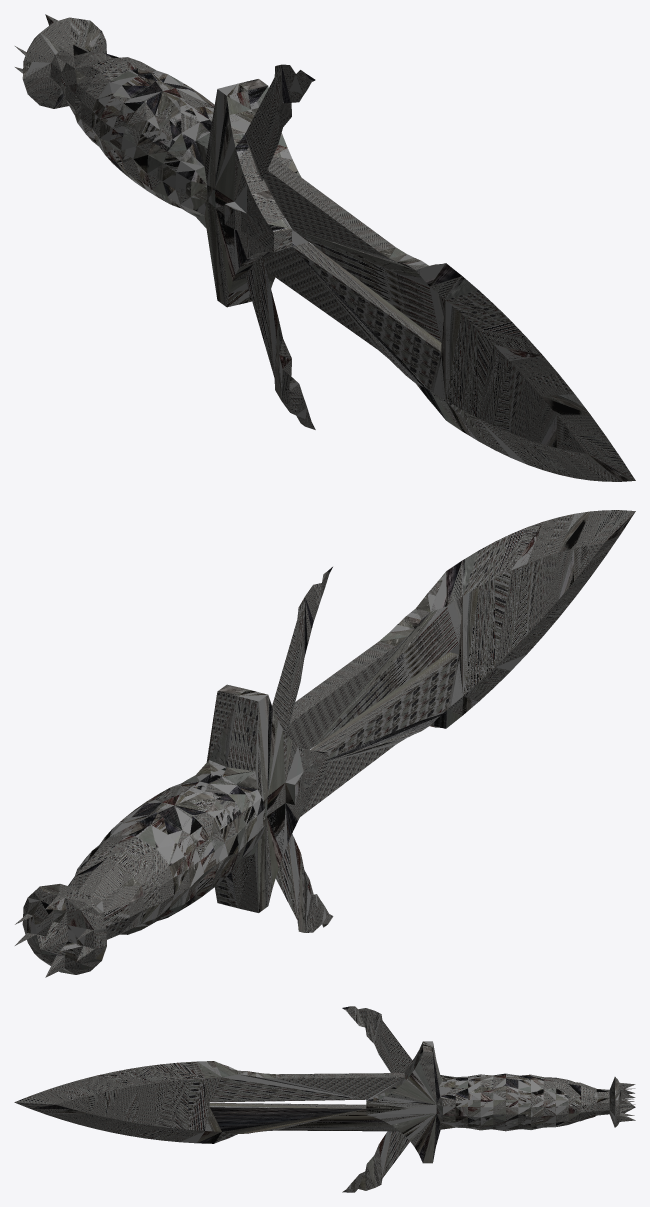
The model's file is model_align.obj.
The picture shows the model from 3 angles, top to bottom: view 1: azimuth 30°, elevation 25°; view 2: azimuth 150°, elevation 25°; view 3: azimuth 270°, elevation 25°; orthographic projection. The views are drawn at different scales.
Size of the model in its own units: 0.019 by 0.0674 by 0.204.
